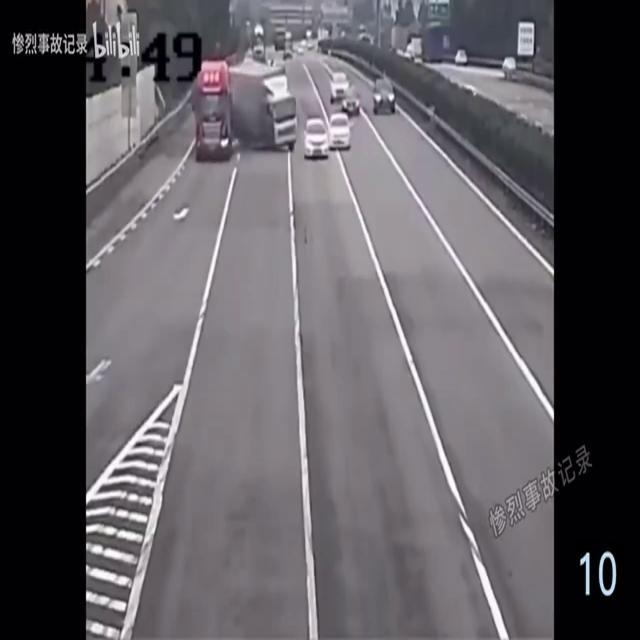multiple_accident: (174, 53, 296, 183)
